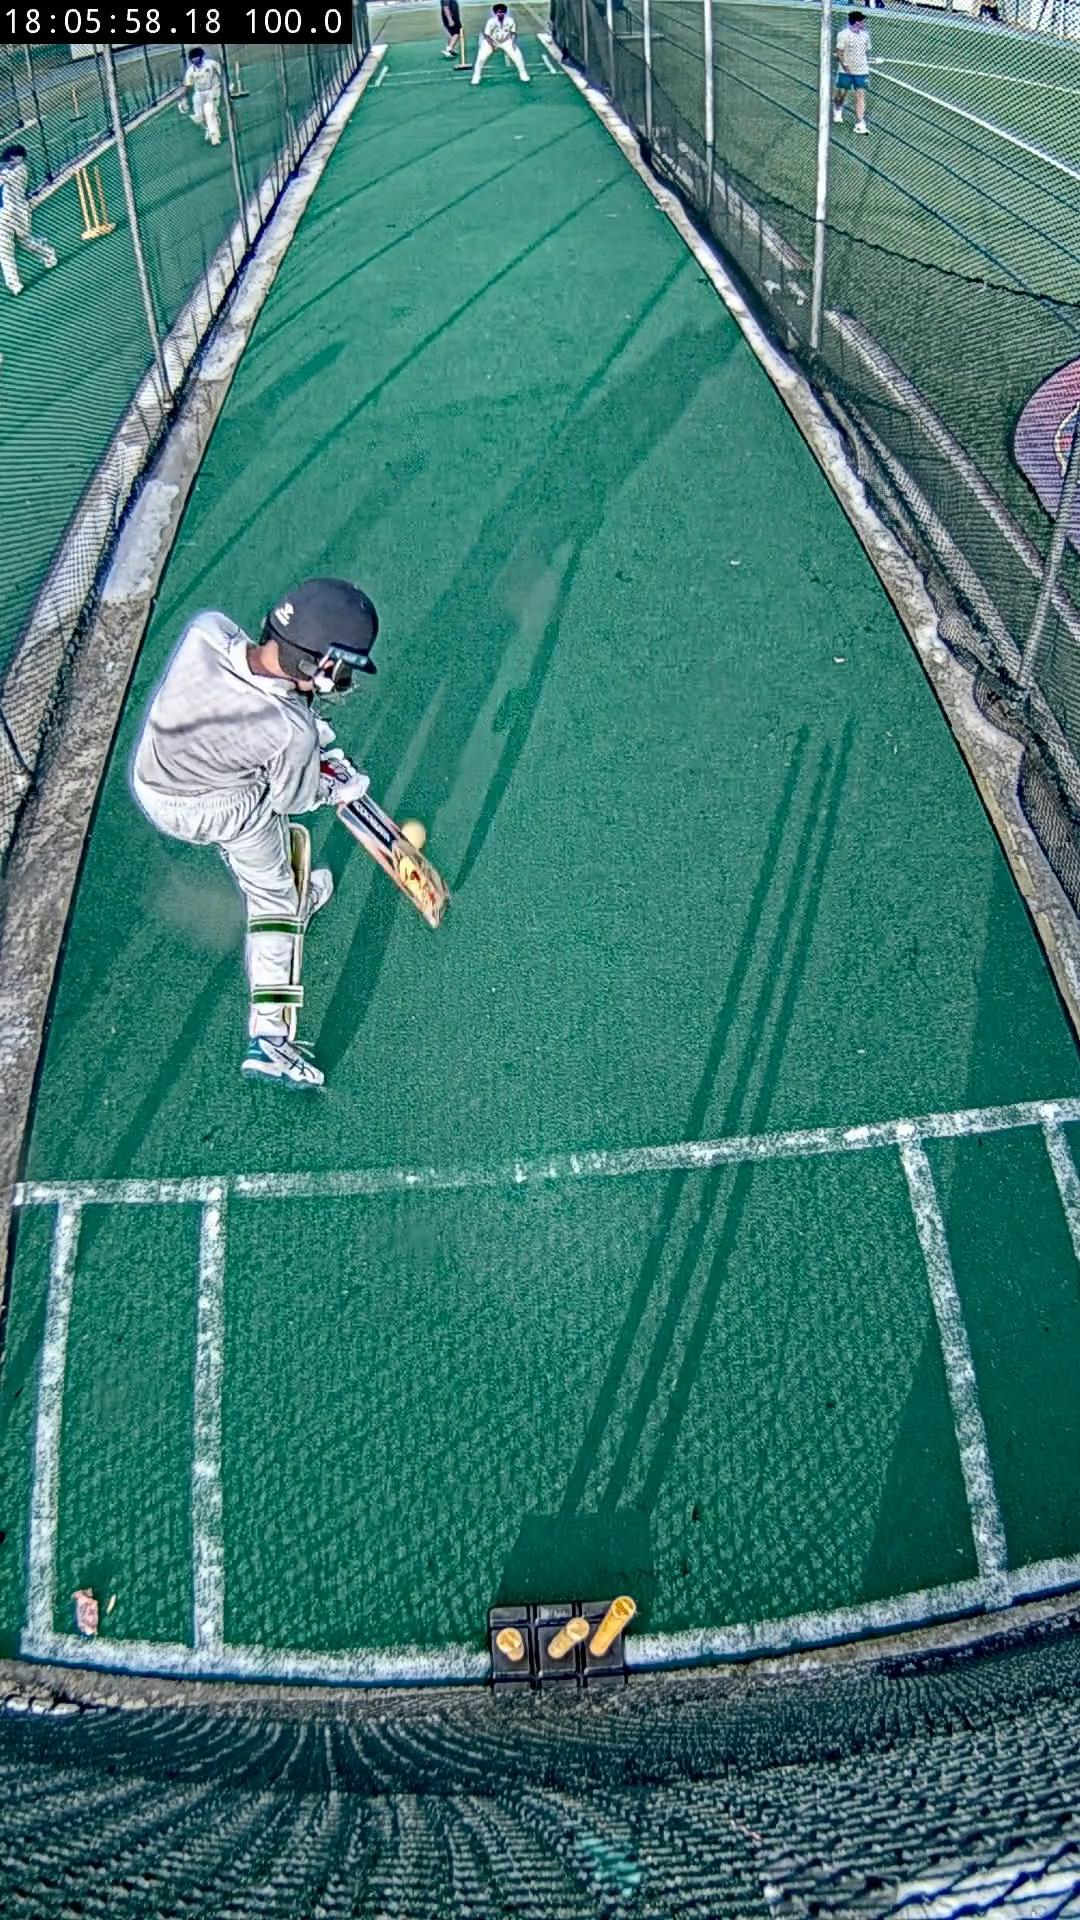ball: (401, 818, 427, 852)
bat: (338, 795, 450, 926)
gloves: (319, 750, 372, 806)
helmet: (266, 578, 378, 694)
pads: (289, 822, 311, 913)
stumps: (488, 1594, 637, 1692)
